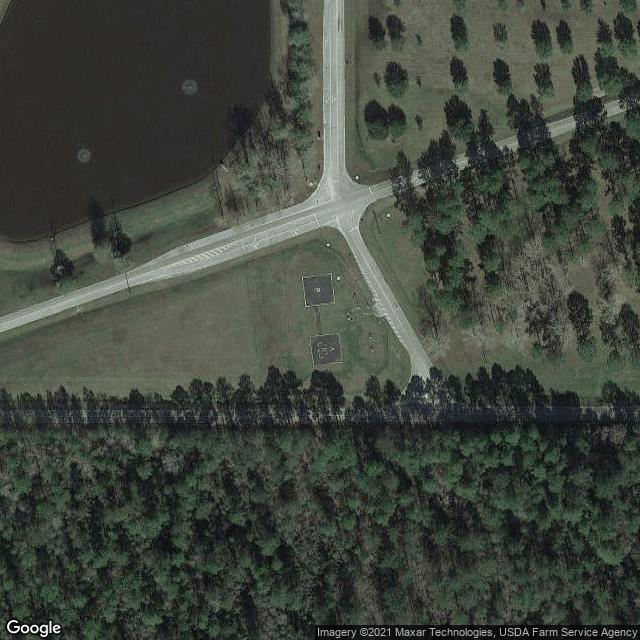Helipad: (300, 273, 340, 310), (308, 334, 345, 365)
